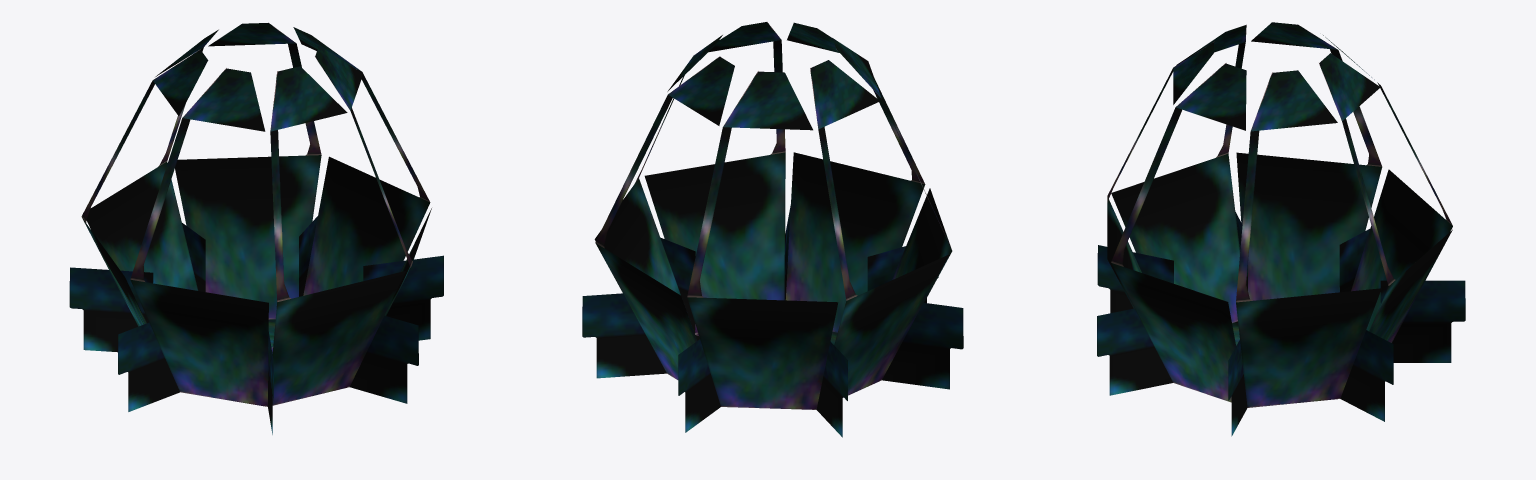
3 renders of one model, left to right at view 1: azimuth 30°, elevation 25°; view 2: azimuth 150°, elevation 25°; view 3: azimuth 270°, elevation 25°, orthographic.
Visible parts, largest first — view 1: T1L2M006_2; view 2: T1L2M006_2; view 3: T1L2M006_2.
Part boxes in pixels (x1,y1,x2,y2): T1L2M006_2: (69,22,443,434); T1L2M006_2: (582,22,963,437); T1L2M006_2: (1097,22,1465,436).
Bounding box in the file's own units: 1.44 × 1.08 × 1.4.
